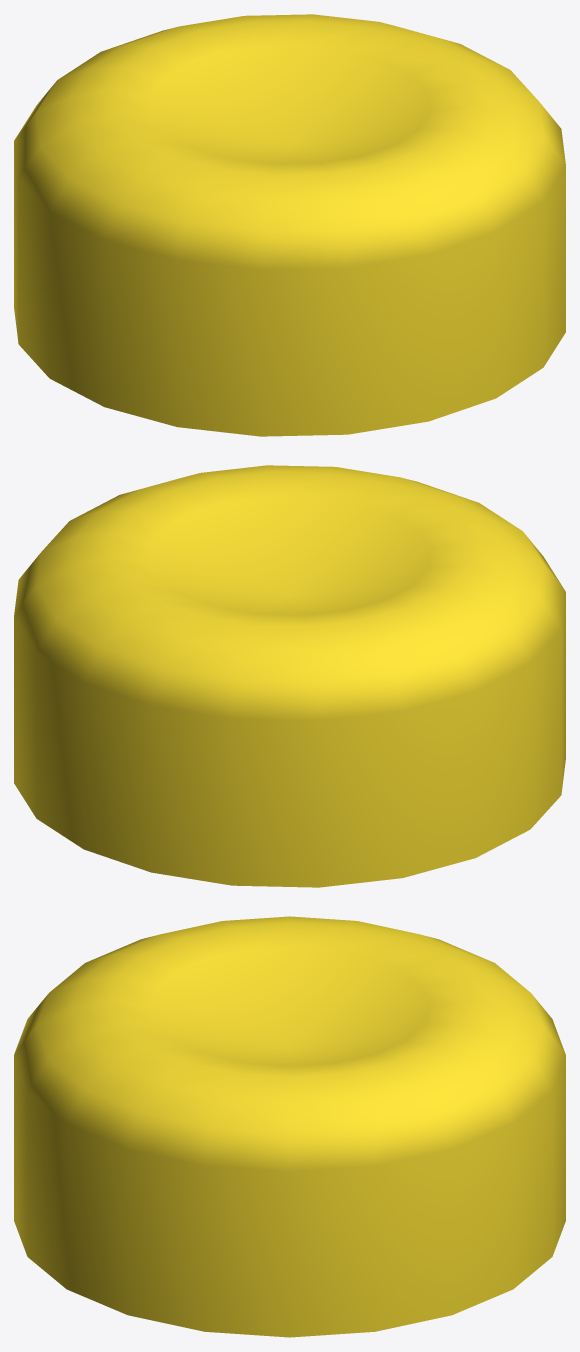
The model's file is SM_Y_05_F_A_Chair_04.fbx.
3 renders of one model, top to bottom at view 1: azimuth 30°, elevation 25°; view 2: azimuth 150°, elevation 25°; view 3: azimuth 270°, elevation 25°, orthographic.
Visible parts, largest first — view 1: SM_Y_05_F_A_Chair_04; view 2: SM_Y_05_F_A_Chair_04; view 3: SM_Y_05_F_A_Chair_04.
Part boxes in pixels (<box>): SM_Y_05_F_A_Chair_04: <box>14,14,565,436</box>; SM_Y_05_F_A_Chair_04: <box>14,465,565,887</box>; SM_Y_05_F_A_Chair_04: <box>14,916,565,1337</box>.
Size of the model in its own units: 121 by 53.53 by 121.
